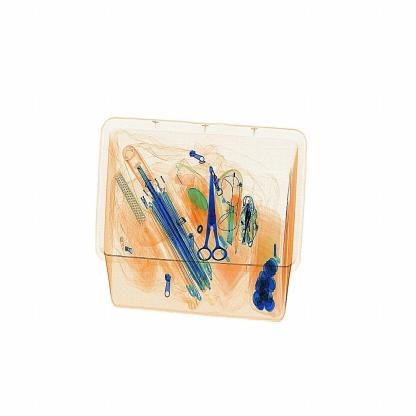gun: (189, 160, 233, 270)
